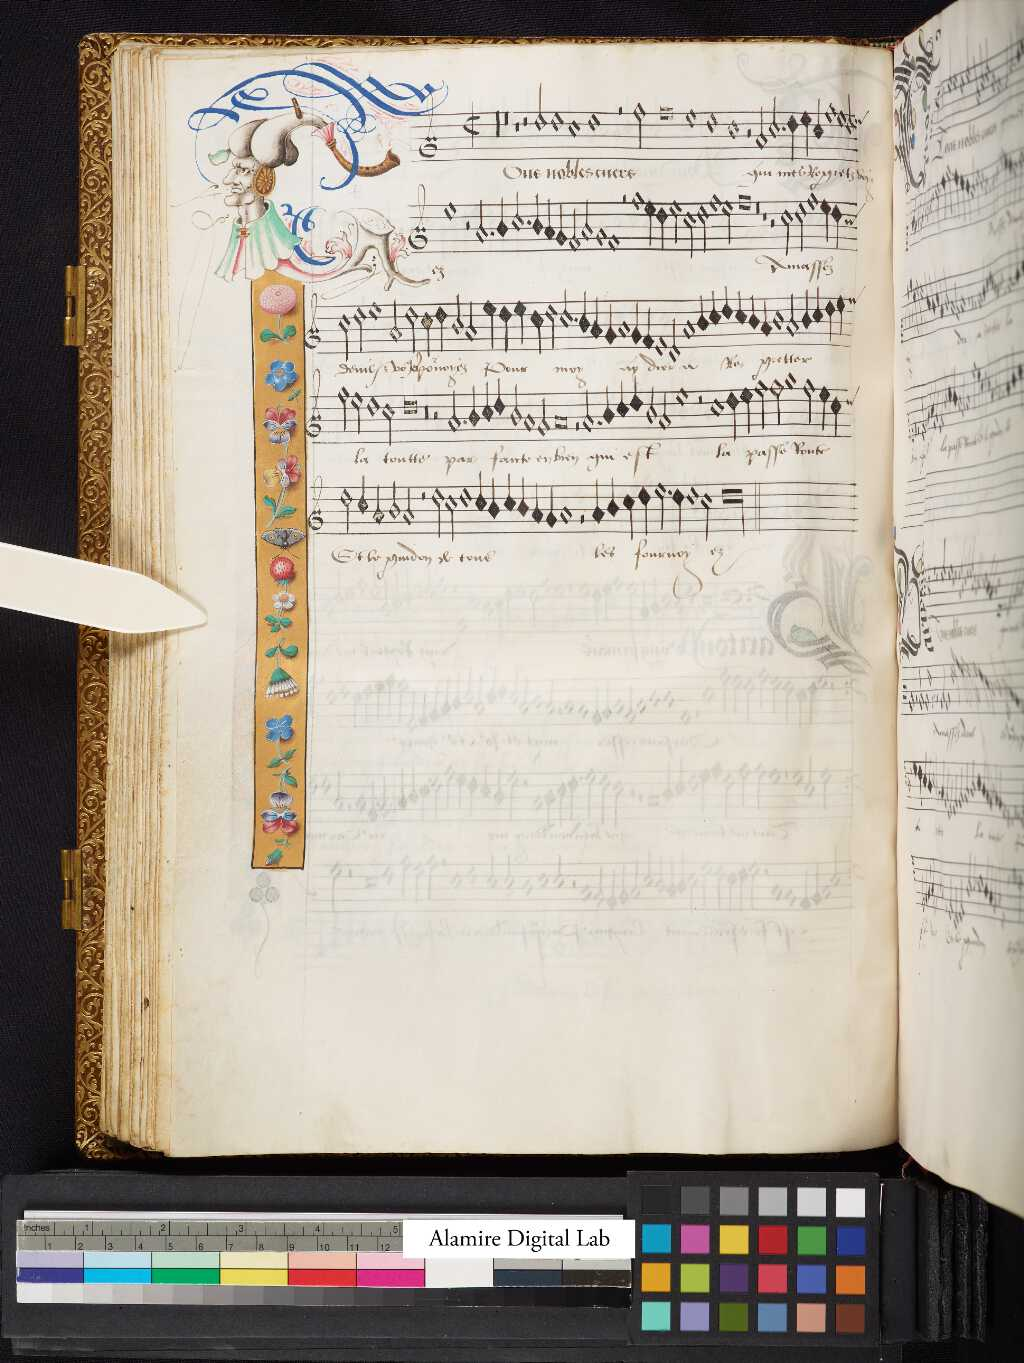barline: (749, 471, 766, 541)
g clef_9: (310, 475, 330, 544)
longa_5: (719, 475, 750, 545)
minim rest: (575, 477, 588, 544), (417, 471, 428, 512)
minim_4: (653, 472, 669, 533)
minim_5: (338, 479, 355, 537), (430, 475, 445, 541)
minim_6: (698, 482, 714, 545), (444, 484, 459, 542)
minim_7: (387, 473, 402, 522)
minim_8: (400, 475, 416, 529)
point: (663, 481, 675, 500)
semibreve_5: (458, 478, 475, 514), (685, 477, 701, 511)
semibreve_8: (558, 496, 577, 531)
semiminim_5: (638, 478, 654, 542), (672, 478, 688, 540)
semiminim_6: (621, 483, 638, 545), (500, 470, 517, 517), (356, 469, 371, 520), (473, 466, 487, 510)
semiminim_7: (487, 468, 501, 525), (606, 470, 622, 511), (516, 470, 531, 511)
semiminim_8: (591, 472, 606, 529), (371, 475, 386, 531), (530, 474, 545, 529)
semiminim_9: (545, 479, 560, 533)
